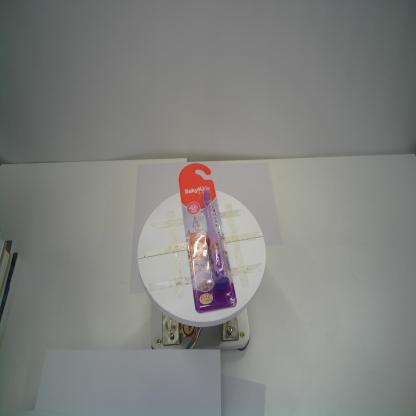Personal Hygiene: (178, 163, 238, 314)
